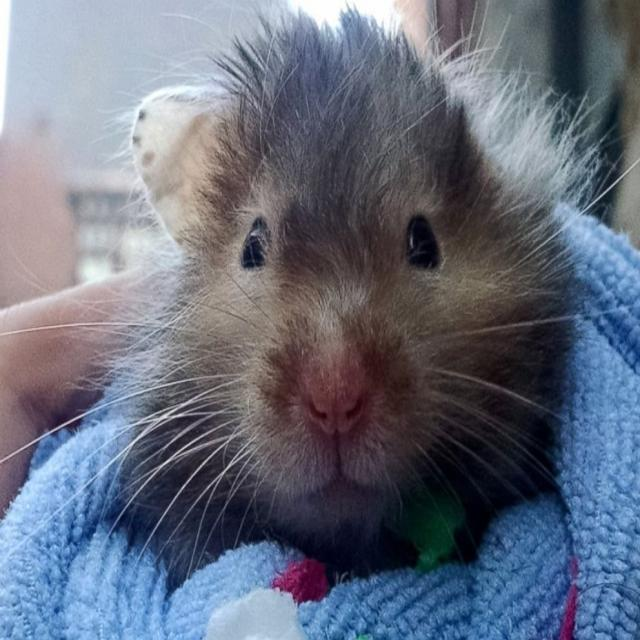hamster: (132, 90, 531, 522)
